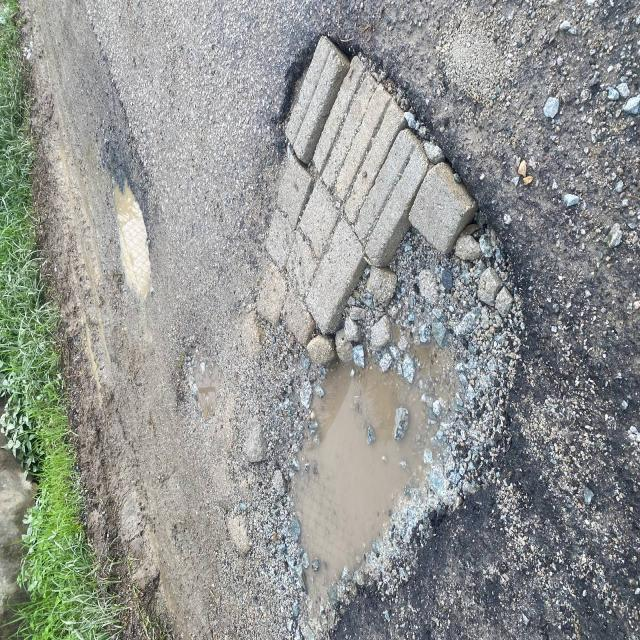Pothole: (232, 7, 581, 640)
